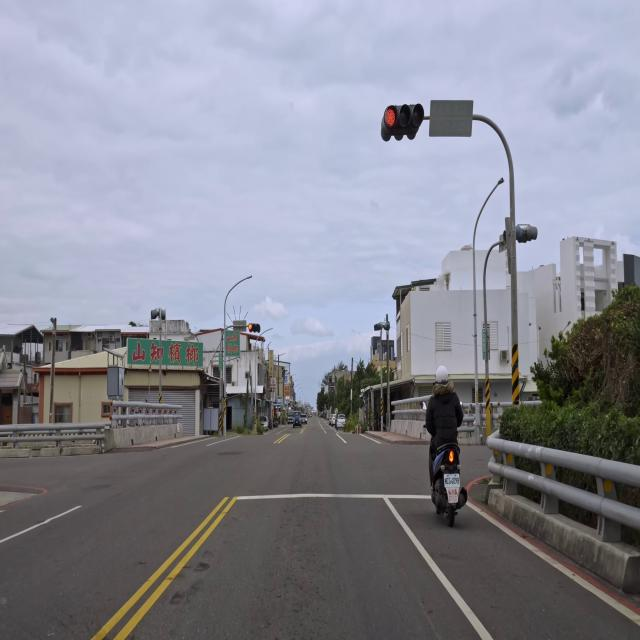red light: (381, 105, 424, 139), (248, 323, 261, 332)
